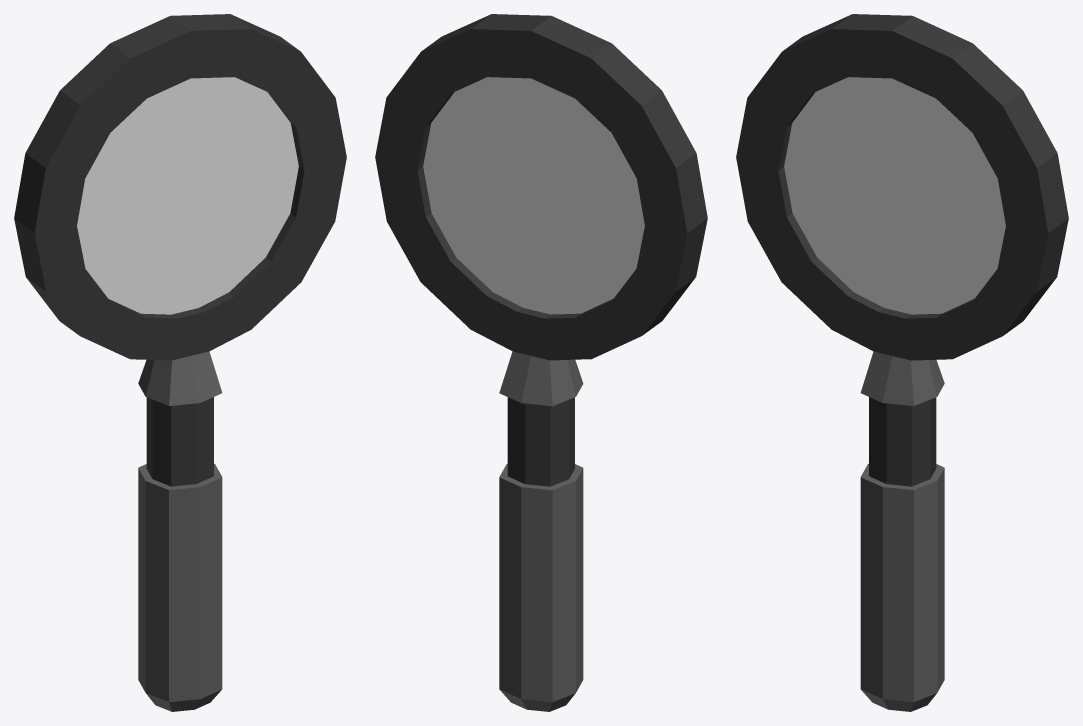
Rendered from MagnifyingGlassModel.fbx.
3 renders of one model, left to right at view 1: azimuth 30°, elevation 25°; view 2: azimuth 150°, elevation 25°; view 3: azimuth 330°, elevation 25°, orthographic.
Visible parts, largest first — view 1: MagnifyingGlassModel; view 2: MagnifyingGlassModel; view 3: MagnifyingGlassModel.
Part boxes in pixels (x1,y1,x2,y2): MagnifyingGlassModel: [14, 14, 346, 711]; MagnifyingGlassModel: [375, 14, 707, 711]; MagnifyingGlassModel: [736, 14, 1068, 711].
Size of the model in its own units: 28.61 by 59.19 by 6.36.
